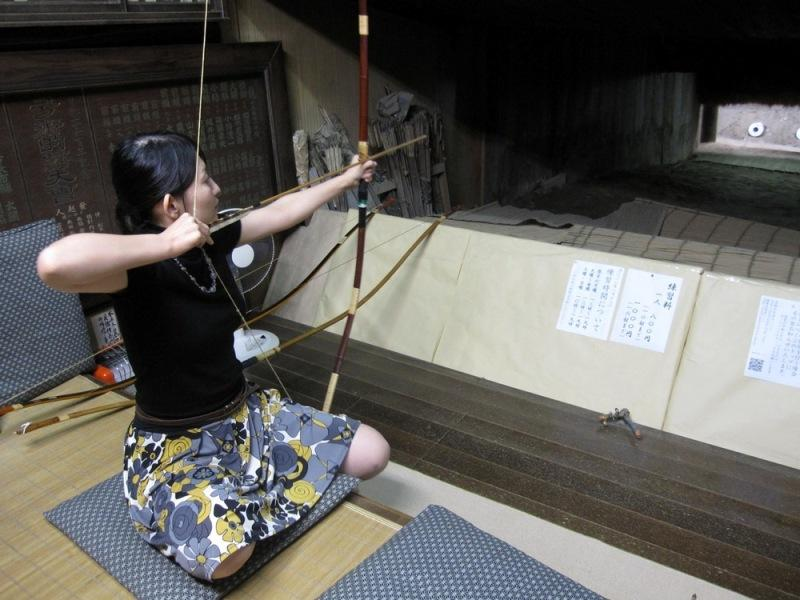person: (36, 133, 392, 580)
